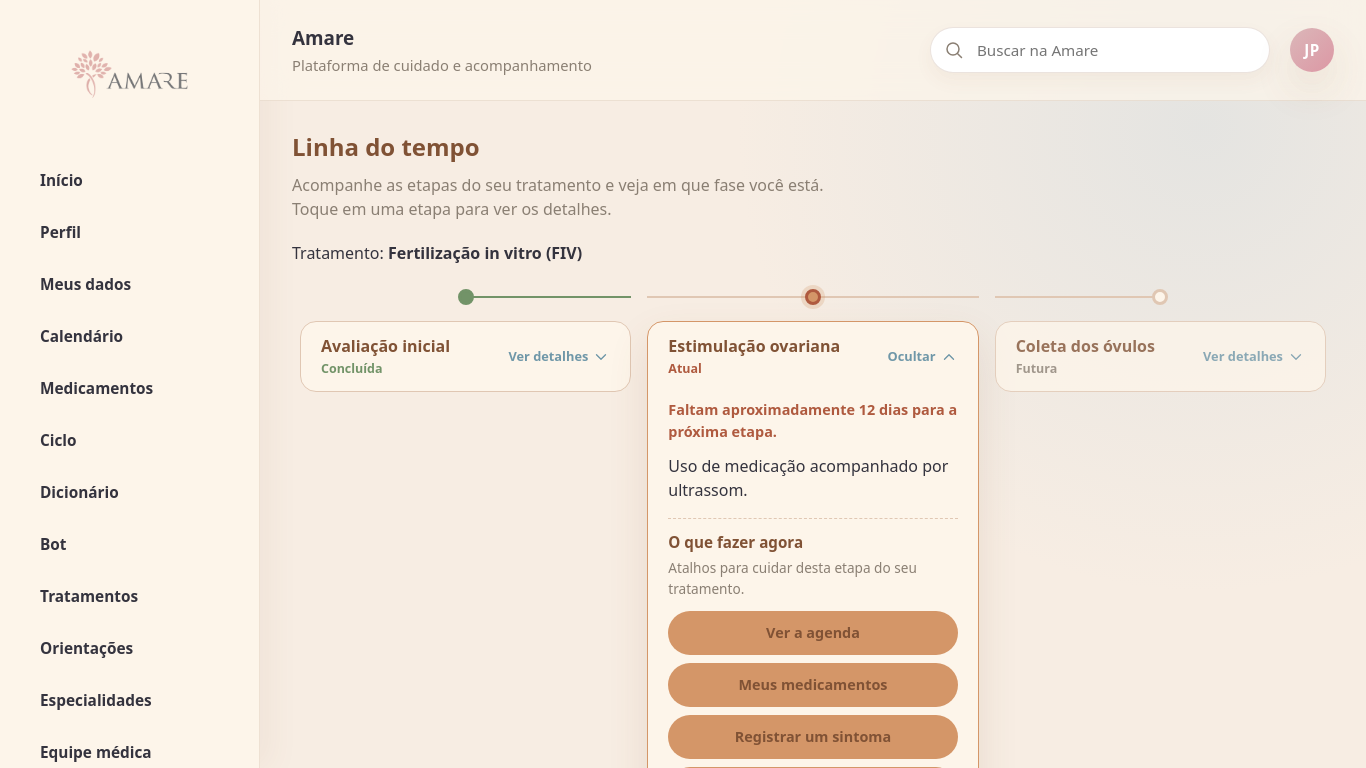
Linha do tempo da Amare › expande e recolhe as etapas ao tocar no cabeçalho
The width and height of the screenshot is (1366, 768).
expect the element with test id "linha-do-tempo-acoes" is shown: met, box [668, 518, 957, 767]
What coordinates should you click on to do the following:
click the button with test id "linha-do-tempo-item-toggle" that starts with "Estimulação ovariana"
I would click on:
 (813, 357)
Its box is [648, 322, 977, 391].
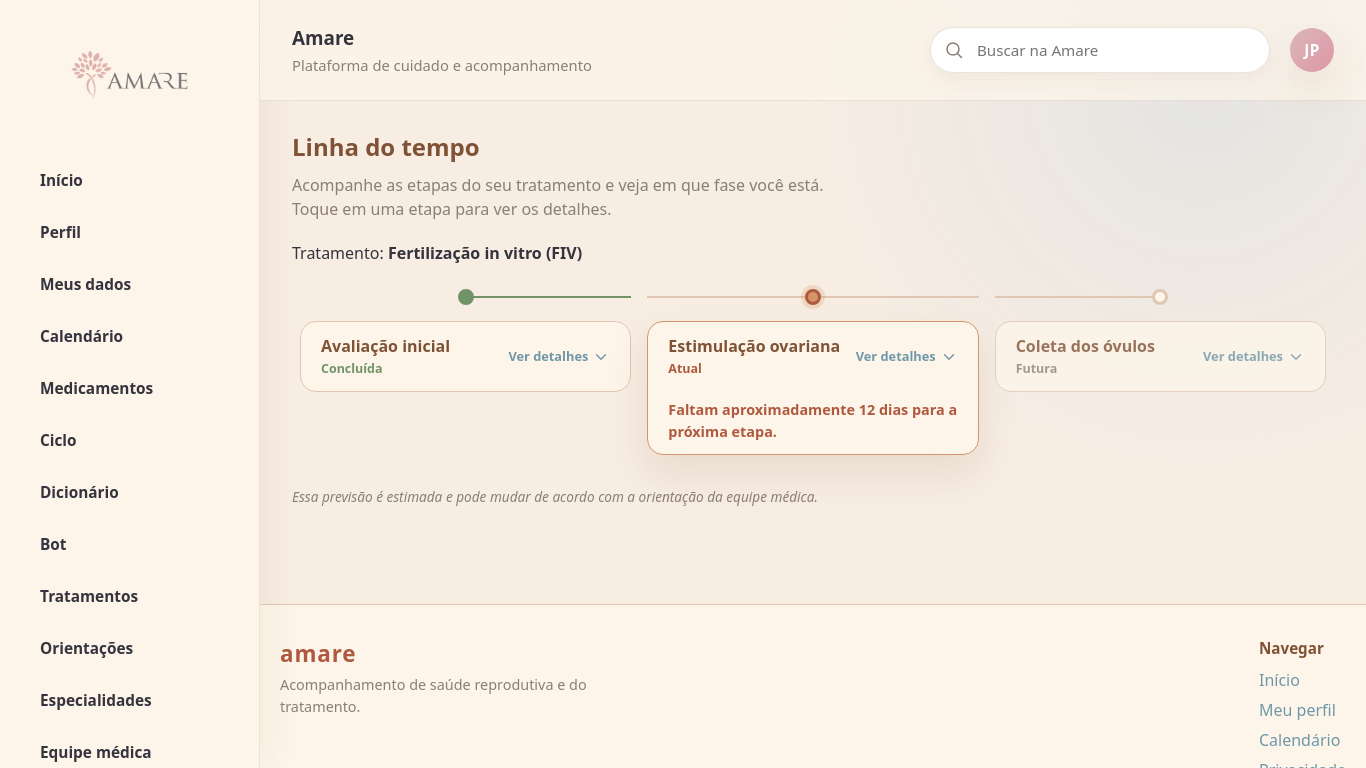
expect the text "Consultas e exames iniciais." is not shown: met
expect the button with test id "linha-do-tempo-item-toggle" is collapsed: met, box [648, 322, 977, 391]
What coordinates should you click on to do the following:
click the button with test id "linha-do-tempo-item-toggle" that starts with "Avaliação inicial"
I would click on:
 (386, 346)
Its box is [301, 322, 630, 391].
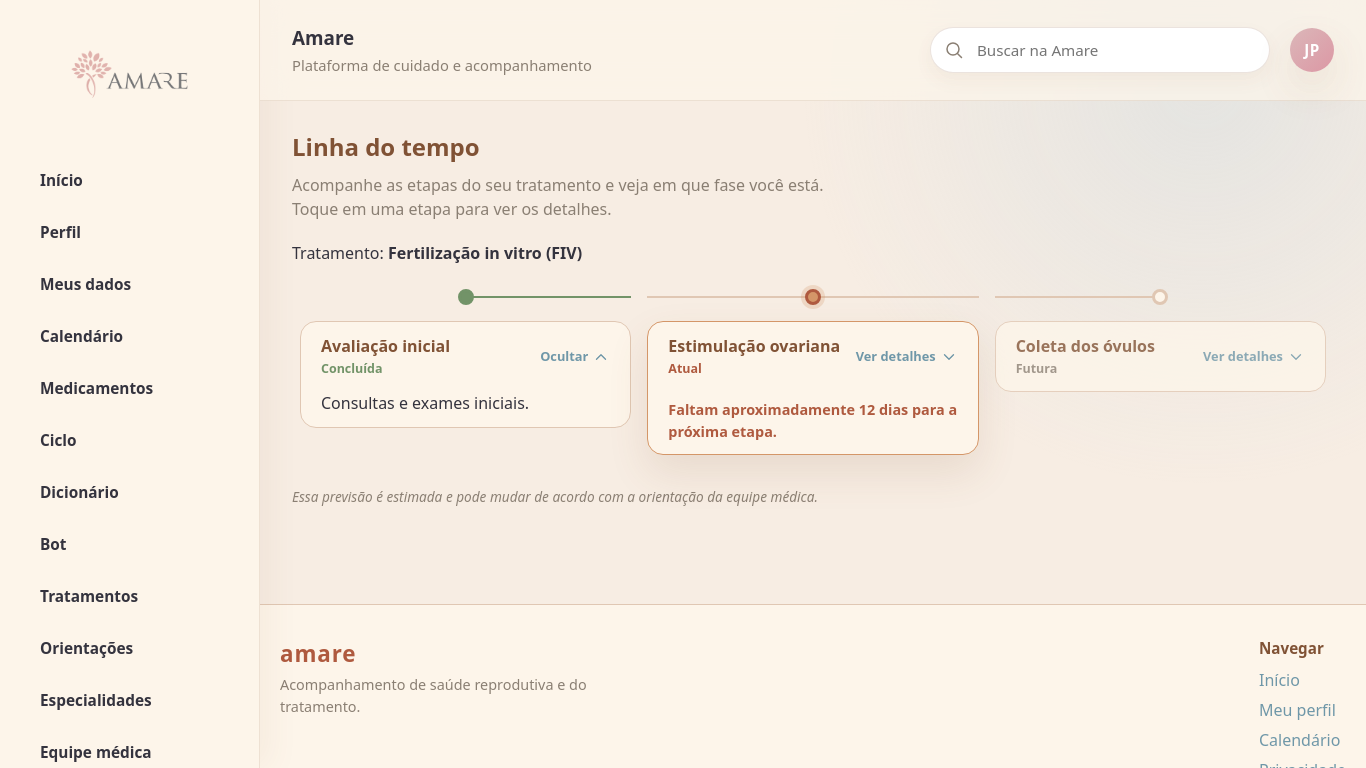
expect the text "Consultas e exames iniciais." is shown: met, box [321, 392, 529, 414]
